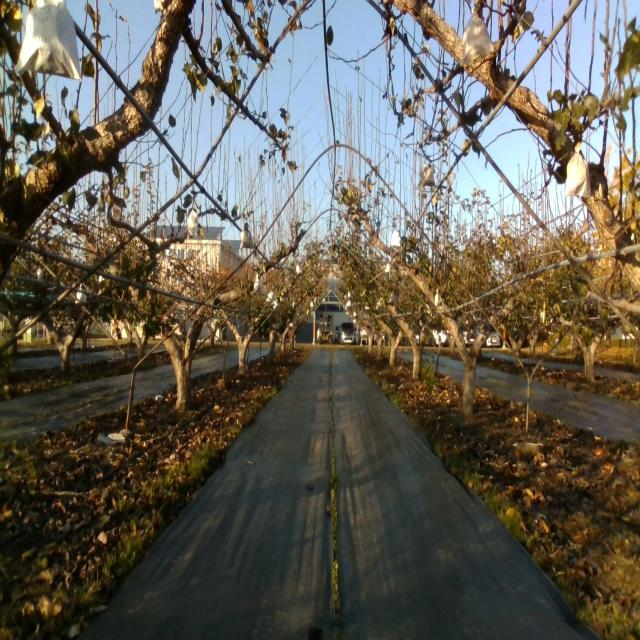pearbags: (16, 0, 82, 82), (459, 8, 493, 66), (562, 141, 590, 194), (419, 163, 435, 189), (187, 209, 198, 239), (240, 229, 253, 250)
